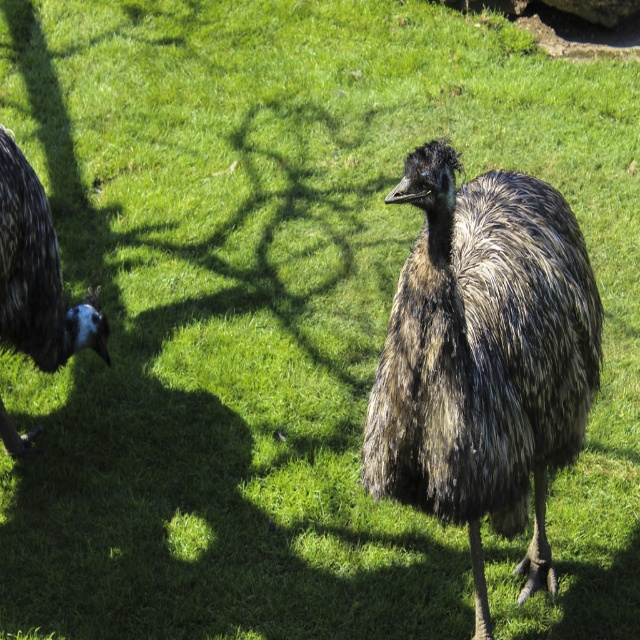Ostrich: (351, 135, 612, 640), (0, 123, 111, 460)
